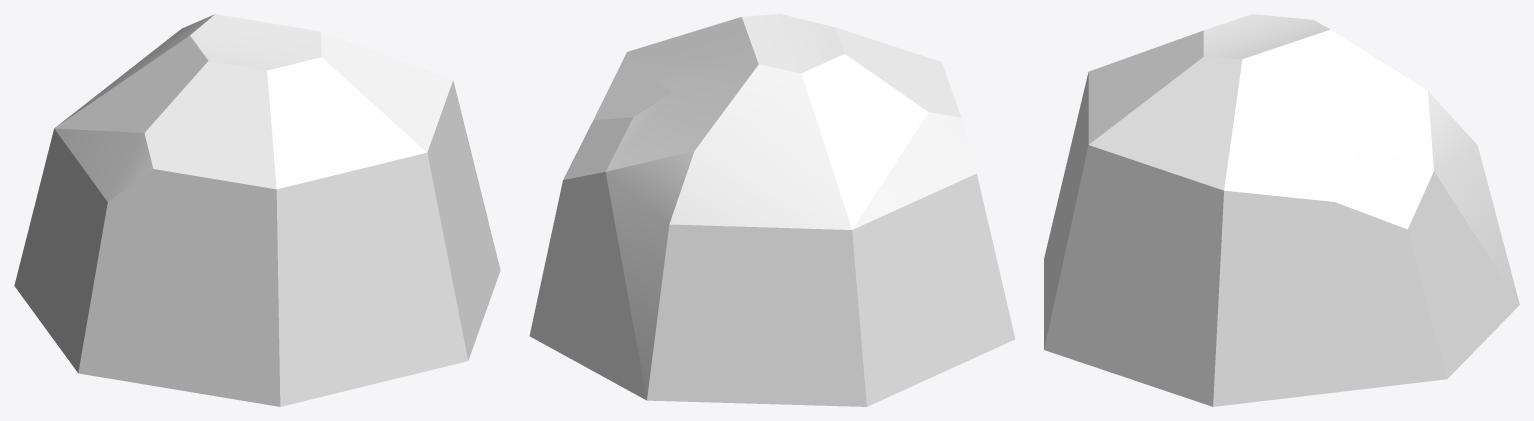
The model's file is rock2.fbx.
3 views of the same model, side by side, from view 1: azimuth 30°, elevation 25°; view 2: azimuth 150°, elevation 25°; view 3: azimuth 270°, elevation 25° (orthographic).
Parts seen in each view (by area): view 1: Object081; view 2: Object081; view 3: Object081.
Part boxes in pixels (<box>): Object081: <box>14,14,500,406</box>; Object081: <box>529,14,1015,406</box>; Object081: <box>1044,14,1519,406</box>.
Bounding box in the file's own units: 93.34 × 56.69 × 91.42.
